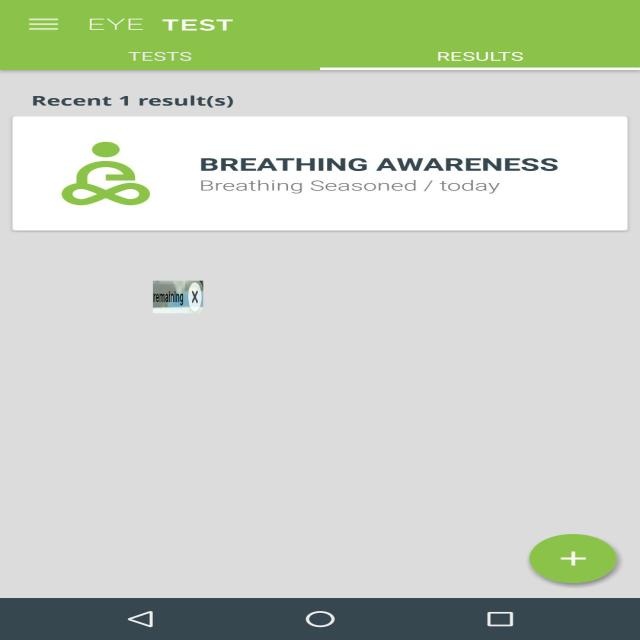misdirection: (153, 281, 203, 313)
